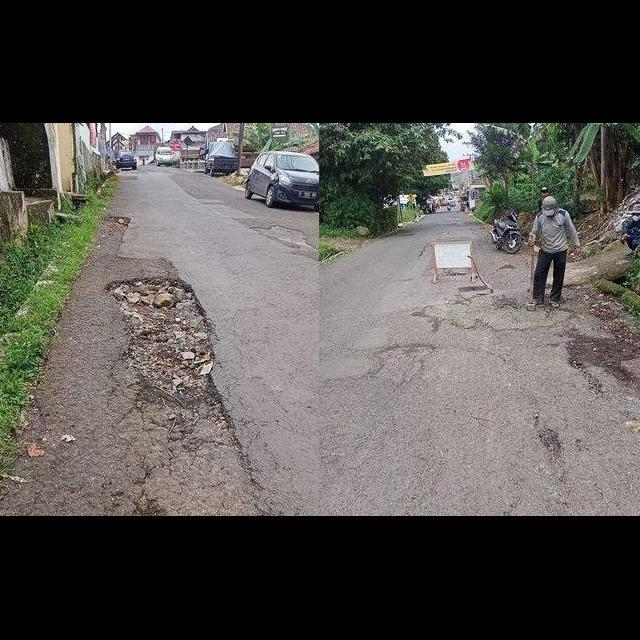lubang_kecil: (98, 275, 241, 444), (360, 334, 458, 401), (248, 220, 325, 257), (522, 417, 581, 464)
